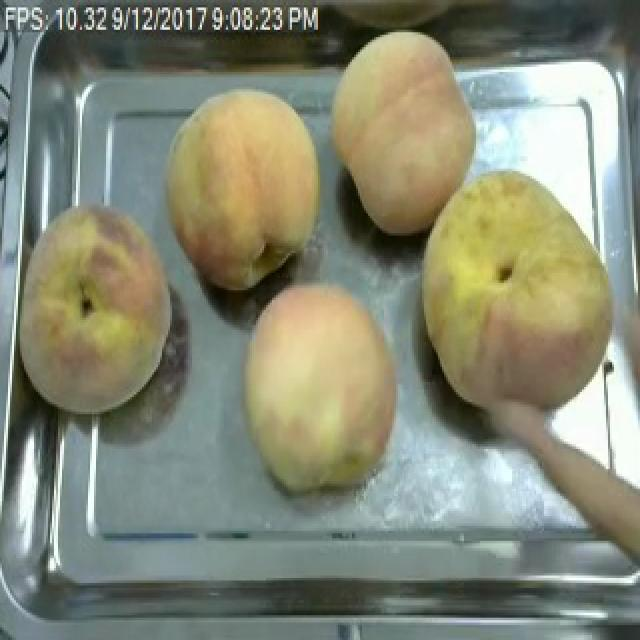Fruit: (406, 158, 636, 422), (232, 273, 410, 501), (154, 80, 336, 300), (12, 194, 184, 426), (320, 18, 486, 246)
